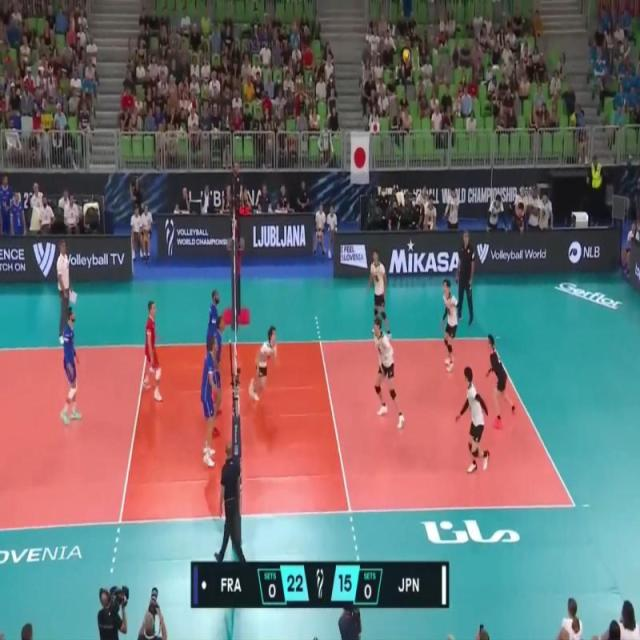volleyball: (402, 48, 412, 64)
